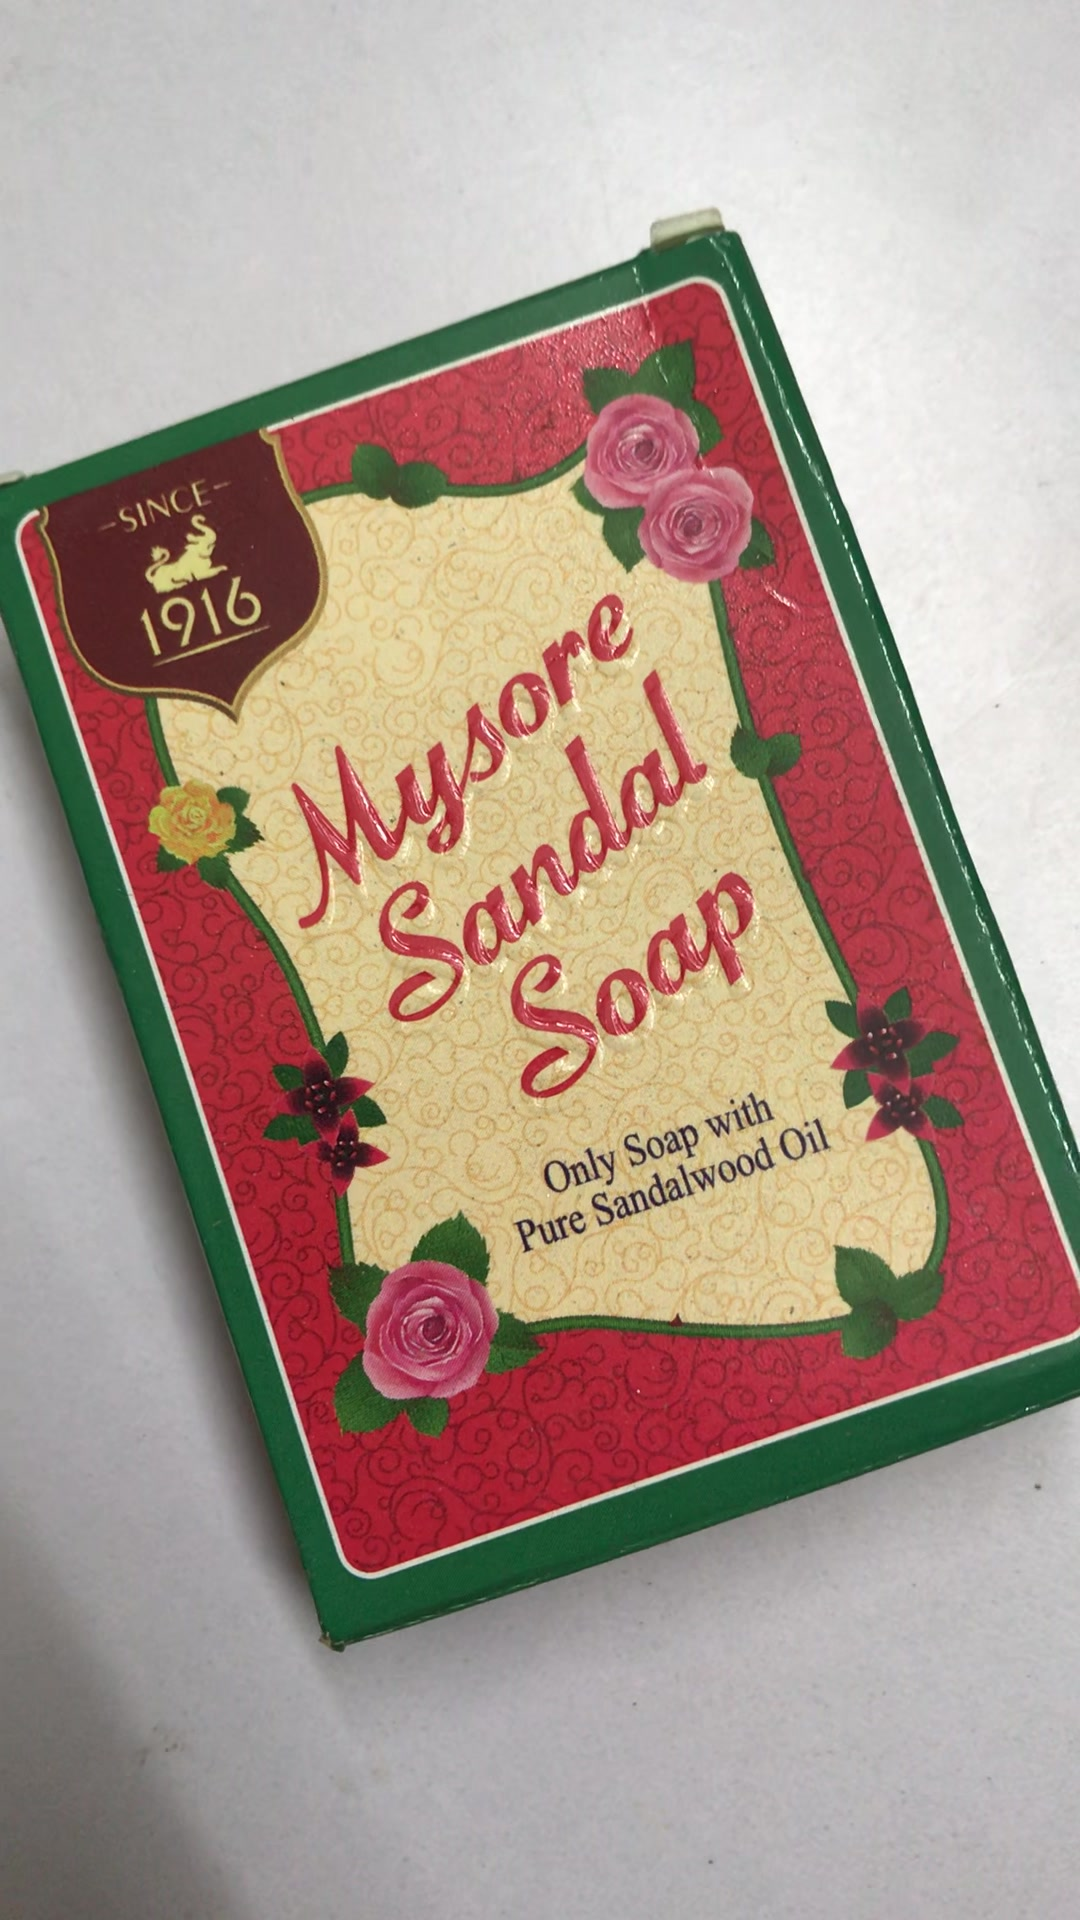mysore sandal soap: (1, 233, 1080, 1640)
